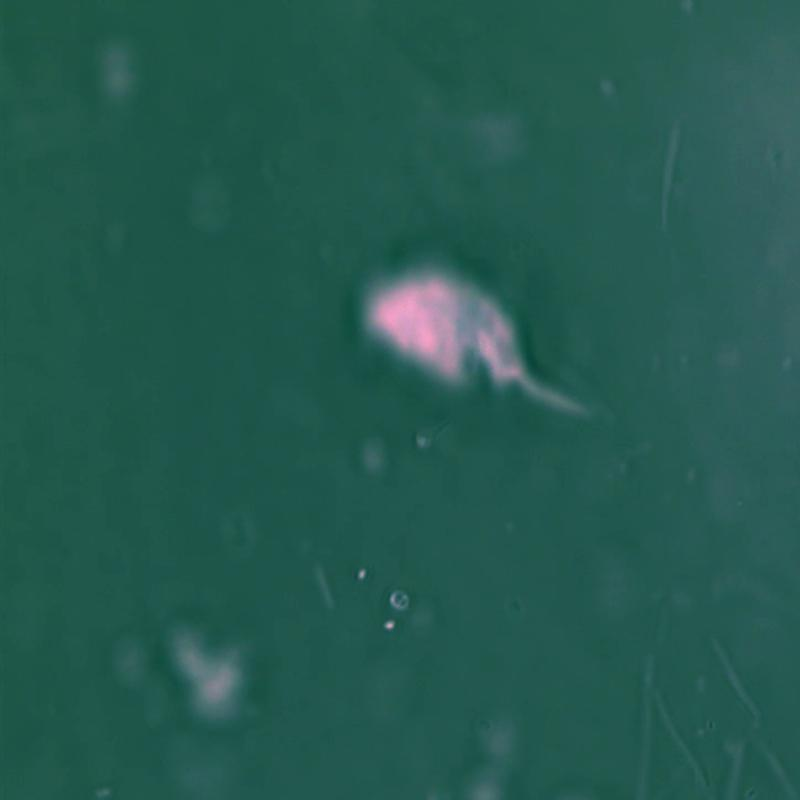depth:100: (338, 230, 631, 450)
